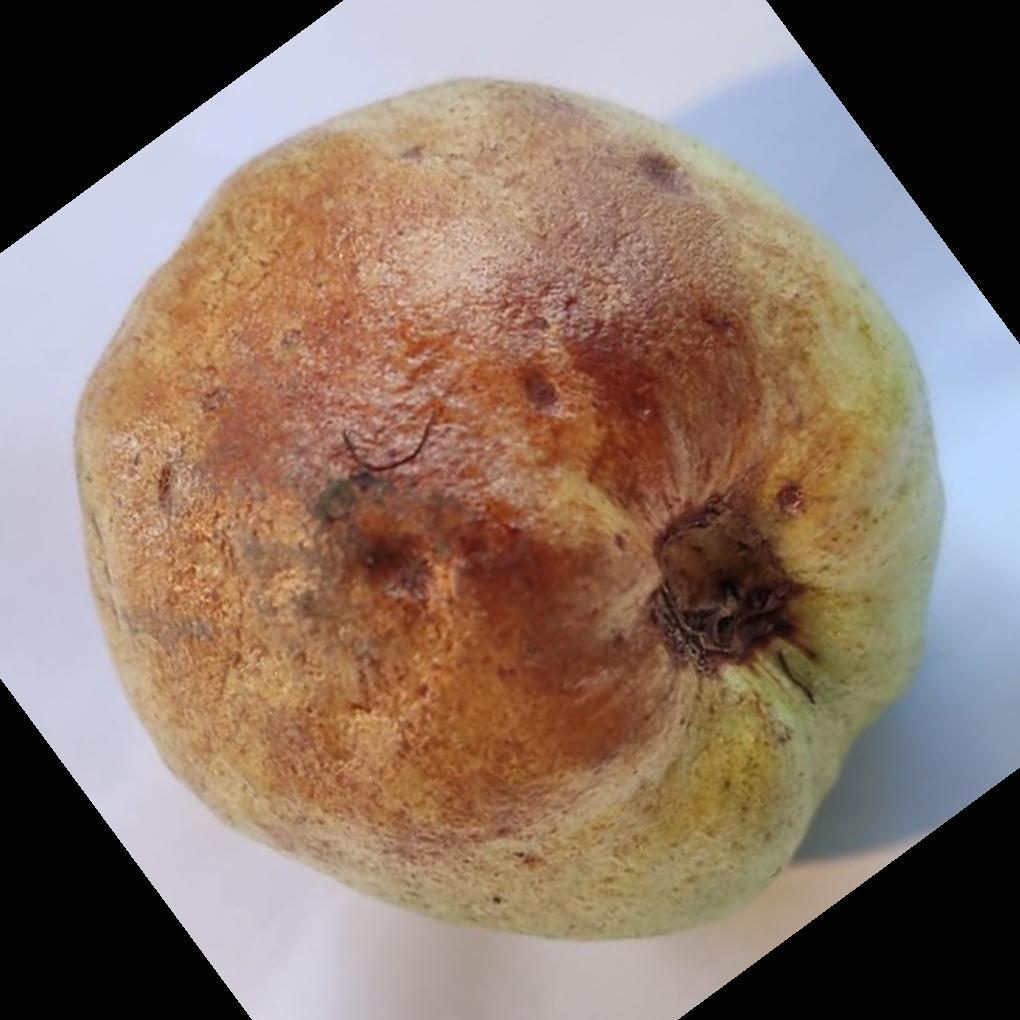FreshOrange: (70, 79, 947, 946)
